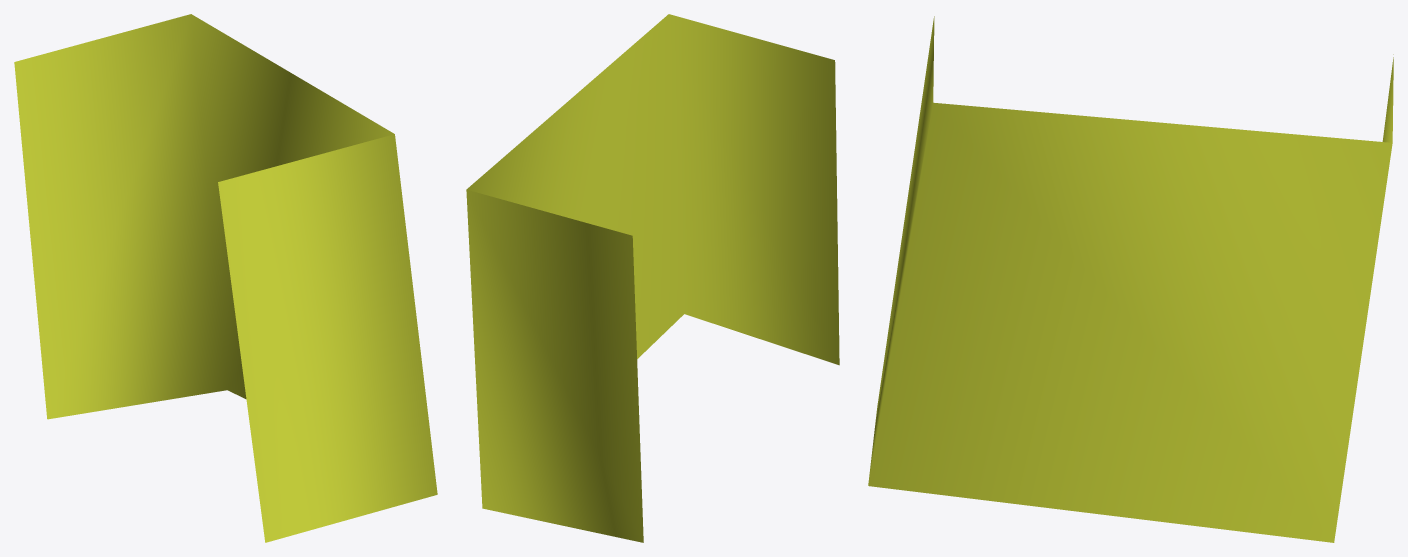
File: b_polySurface643_b_BMW_i8Elite_2017CalliperGloss_Material1_0.glb
The picture shows the model from 3 angles, left to right: view 1: azimuth 30°, elevation 25°; view 2: azimuth 150°, elevation 25°; view 3: azimuth 270°, elevation 25°; orthographic projection. The views are drawn at different scales.
Parts seen in each view (by area): view 1: b:polySurface643_b:BMW_i8Elite_2017CalliperGloss_Material1_0; view 2: b:polySurface643_b:BMW_i8Elite_2017CalliperGloss_Material1_0; view 3: b:polySurface643_b:BMW_i8Elite_2017CalliperGloss_Material1_0.
Part boxes in pixels (<box>): b:polySurface643_b:BMW_i8Elite_2017CalliperGloss_Material1_0: <box>14,14,437,542</box>; b:polySurface643_b:BMW_i8Elite_2017CalliperGloss_Material1_0: <box>466,14,839,542</box>; b:polySurface643_b:BMW_i8Elite_2017CalliperGloss_Material1_0: <box>868,16,1393,542</box>.
Size of the model in its own units: 0.00595 by 0.0117 by 0.0129.
